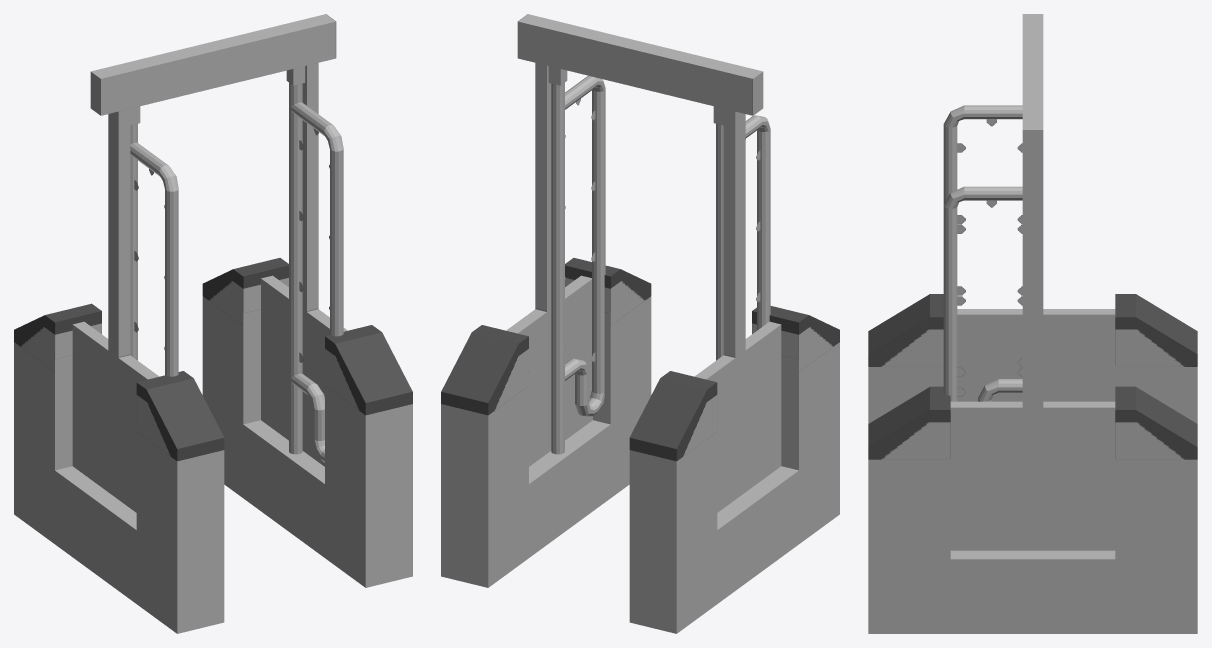
Rendered from nyc_subway_fare_gate_4_twoway_open_exit.obj.
The picture shows the model from 3 angles, left to right: view 1: azimuth 30°, elevation 25°; view 2: azimuth 150°, elevation 25°; view 3: azimuth 270°, elevation 25°; orthographic projection.
Visible parts, largest first — view 1: right, left, doorRight, doorLeft; view 2: right, left, doorRight, doorLeft; view 3: right, left, doorRight, doorLeft.
Part boxes in pixels (<box>): right: <box>72,83,412,633</box>; left: <box>14,14,347,603</box>; doorRight: <box>290,102,343,462</box>; doorLeft: <box>130,142,178,376</box>; right: <box>441,83,839,587</box>; left: <box>506,14,839,633</box>; doorRight: <box>564,75,605,416</box>; doorLeft: <box>745,115,770,330</box>; right: <box>868,309,1197,633</box>; left: <box>868,14,1197,550</box>; doorRight: <box>943,186,1022,410</box>; doorLeft: <box>943,105,1022,401</box>.
Size of the model in its own units: 1.25 by 2.53 by 1.5.
Materials: 1 (1 with a texture image).
